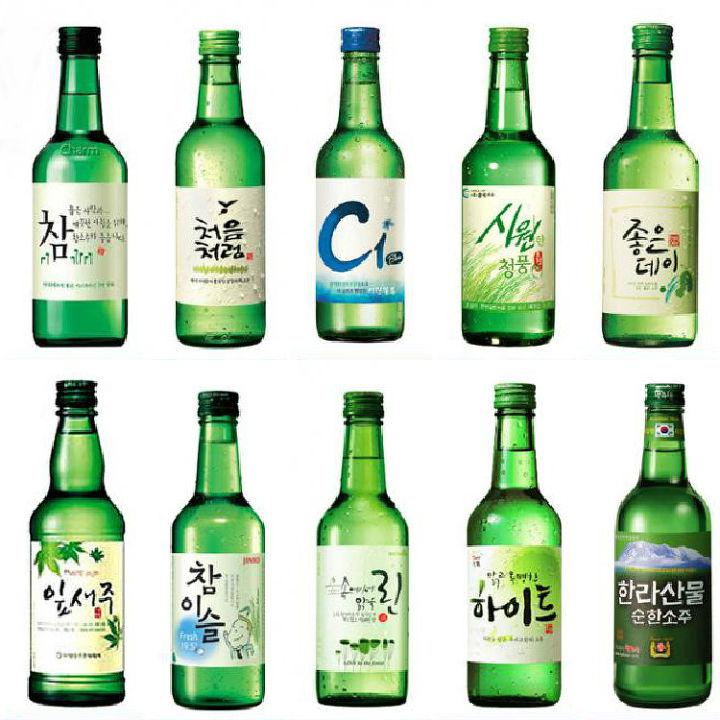soju: (23, 377, 713, 713), (27, 22, 701, 359)
